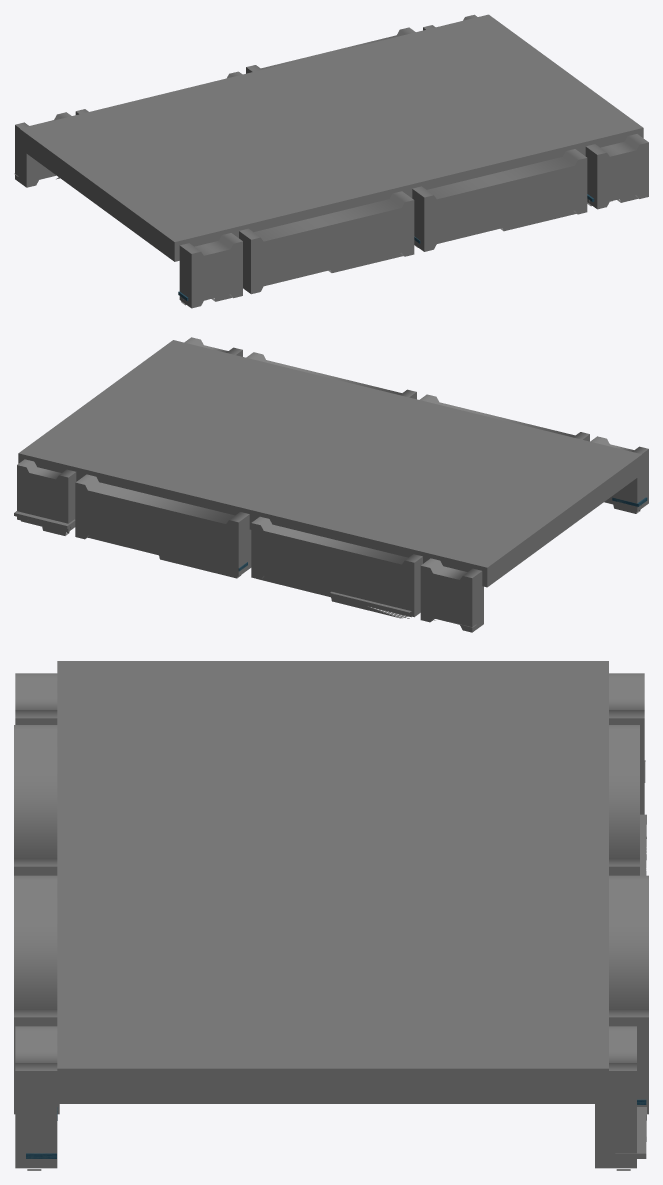
Rendered from PontMilieu.fbx.
The picture shows the model from 3 angles, top to bottom: view 1: azimuth 30°, elevation 25°; view 2: azimuth 150°, elevation 25°; view 3: azimuth 270°, elevation 25°; orthographic projection. The views are drawn at different scales.
Parts seen in each view (by area): view 1: viga_hor114; view 2: viga_hor114; view 3: viga_hor114.
Boxes of the visible parts, box(x1,y1,x2,y2) form: viga_hor114: box(14, 14, 648, 308); viga_hor114: box(14, 337, 648, 632); viga_hor114: box(14, 661, 648, 1170).
Size of the model in its own units: 5.33 by 0.6686 by 3.51.
